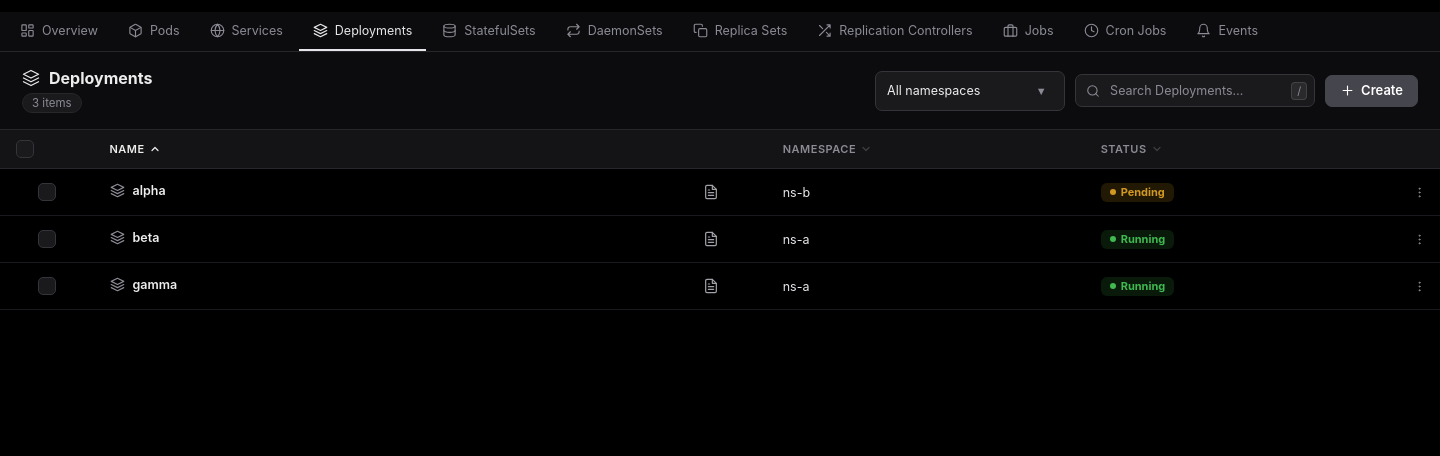
Test case: ResourceViewer › deployments with no pods say so in the logs panel
Click the button named "Logs for beta".
click(711, 239)  # box [697,225,725,253]
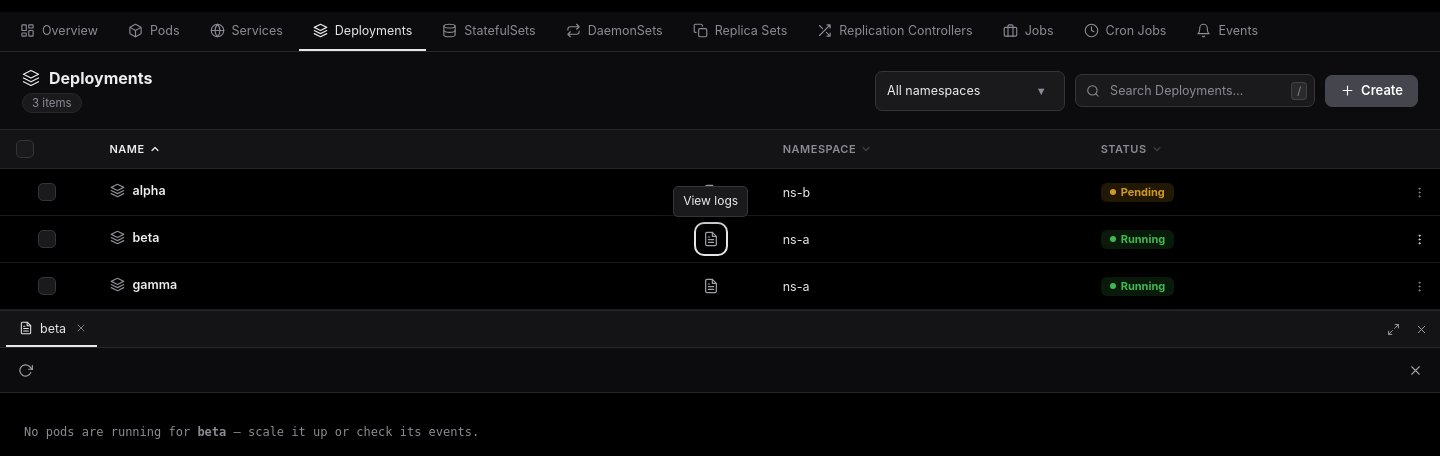
Check: the text "No pods are running for" shows "No pods are running for beta", box [24,425,479,439]
